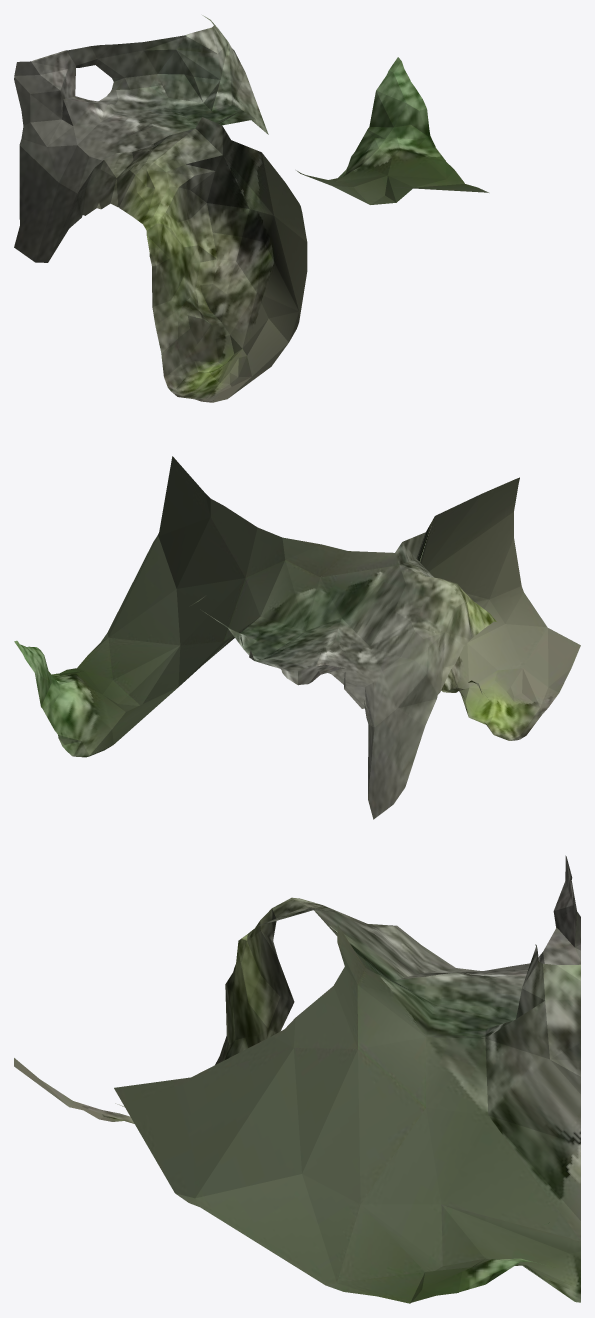
The picture shows the model from 3 angles, top to bottom: view 1: azimuth 30°, elevation 25°; view 2: azimuth 150°, elevation 25°; view 3: azimuth 270°, elevation 25°; orthographic projection. The views are drawn at different scales.
Size of the model in its own units: 5.9 by 3.21 by 5.9.
3 materials, 3 textured.
